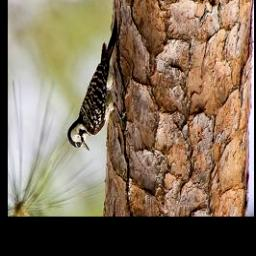Woodpecker: (66, 13, 126, 152)
